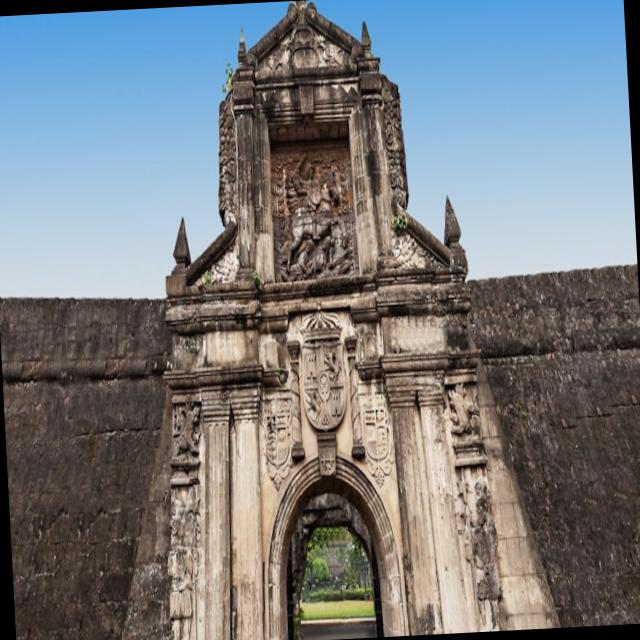Fort Santiago: (0, 1, 640, 640)
